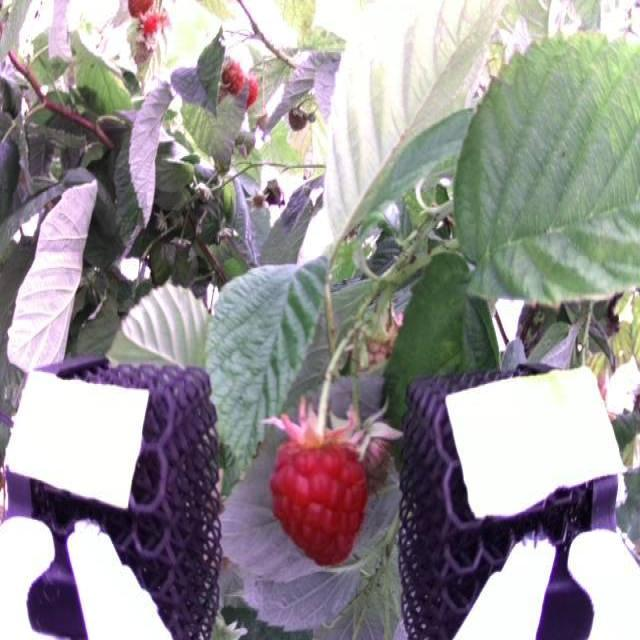Riped berries: (264, 417, 372, 573), (129, 0, 167, 41), (221, 55, 244, 92), (245, 72, 264, 106)
